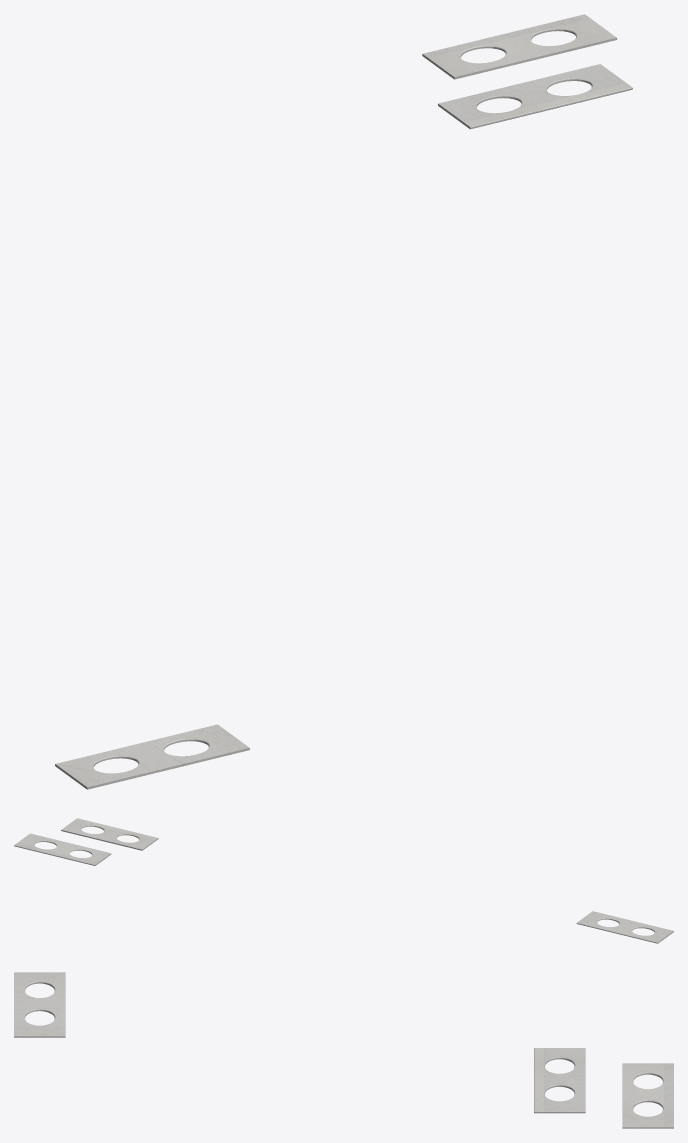
The model's file is Countertops_Quartz_Calacatta_Karmelo.glb.
The picture shows the model from 3 angles, top to bottom: view 1: azimuth 30°, elevation 25°; view 2: azimuth 150°, elevation 25°; view 3: azimuth 270°, elevation 25°; orthographic projection. The views are drawn at different scales.
Parts seen in each view (by area): view 1: Bathroom_Counter_tops_Quartz_Calacatta_Karmelo_2345; view 2: Bathroom_Counter_tops_Quartz_Calacatta_Karmelo_2345; view 3: Bathroom_Counter_tops_Quartz_Calacatta_Karmelo_2345.
Boxes of the visible parts, bbox=[...] form: Bathroom_Counter_tops_Quartz_Calacatta_Karmelo_2345: bbox=[55, 14, 632, 789]; Bathroom_Counter_tops_Quartz_Calacatta_Karmelo_2345: bbox=[14, 818, 673, 943]; Bathroom_Counter_tops_Quartz_Calacatta_Karmelo_2345: bbox=[14, 972, 673, 1128].
Size of the model in its own units: 16.21 by 4.31 by 12.7.
Materials: 1 (1 with a texture image).
